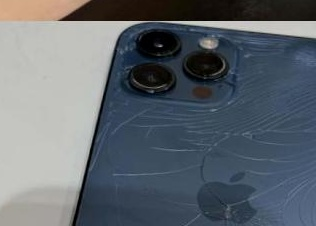physical_damage: (114, 167, 299, 226), (207, 119, 316, 185), (104, 100, 202, 157), (253, 76, 316, 125), (261, 27, 316, 76), (178, 24, 260, 49), (107, 22, 136, 86)
